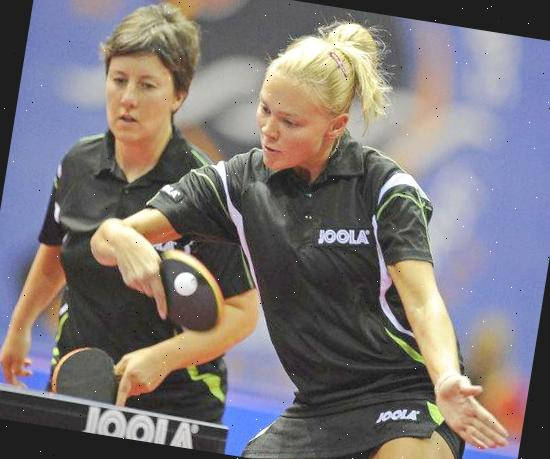ball: (167, 266, 200, 300)
